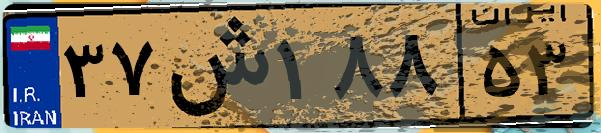1: (270, 28, 330, 110)
3: (57, 26, 110, 100), (525, 38, 570, 115)
5: (475, 38, 525, 113)
7: (110, 28, 158, 98)
8: (385, 28, 445, 110), (330, 28, 385, 110)
ش: (158, 12, 270, 120)
